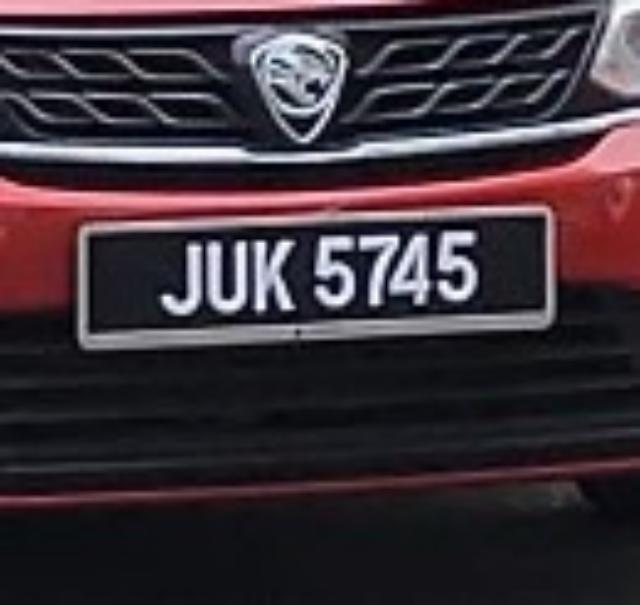License_Plate: (68, 192, 568, 363)
